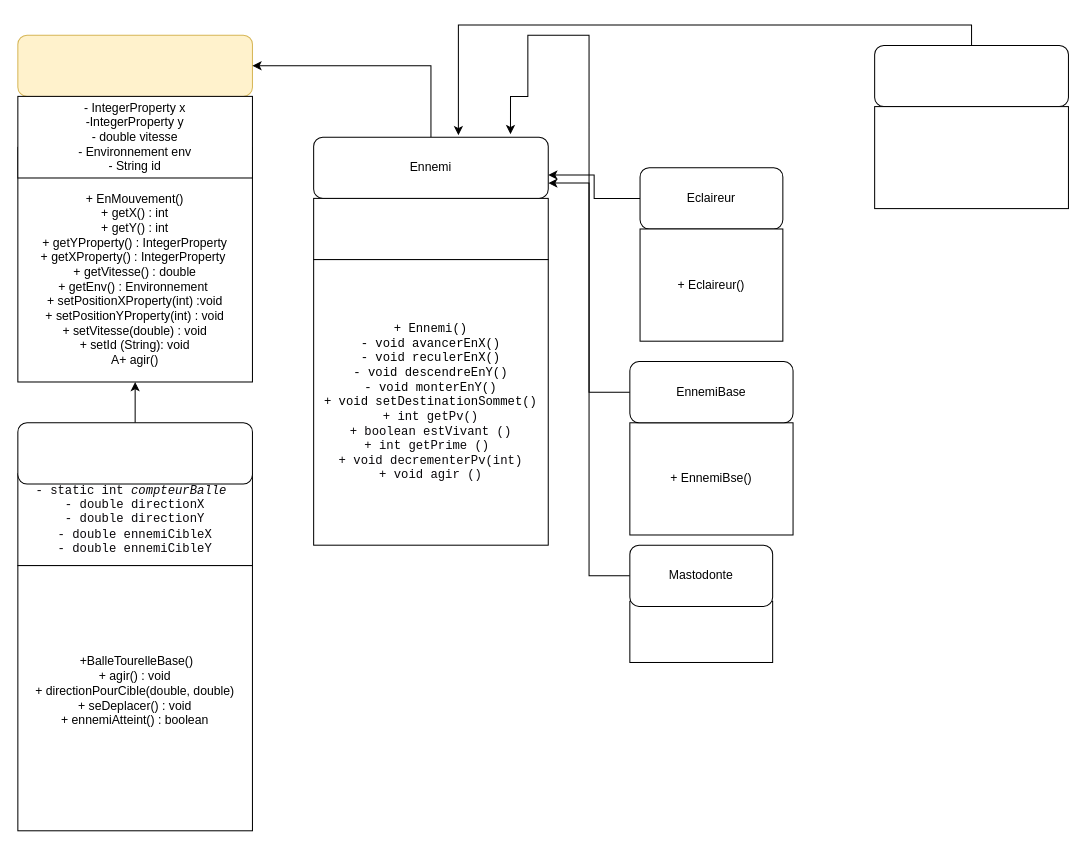
Some shapes in this 1086 by 857 pixel diagram are drawn without their labels. Here are the shapes that lost their labels. From the top down, the centre of each, then its label:
At [134,65]: "EnMouvement".
At [971,75]: "Tank".
At [971,157]: "+ Tank (Environnement env) + void agir() + void detruireDefenses()".
At [430,228]: "- static int compteurEnnemi - int prime - int pv - Case destinationCase;".
At [134,453]: "BalleTourelleBase".
At [701,631]: "+ Mastodonte()".
